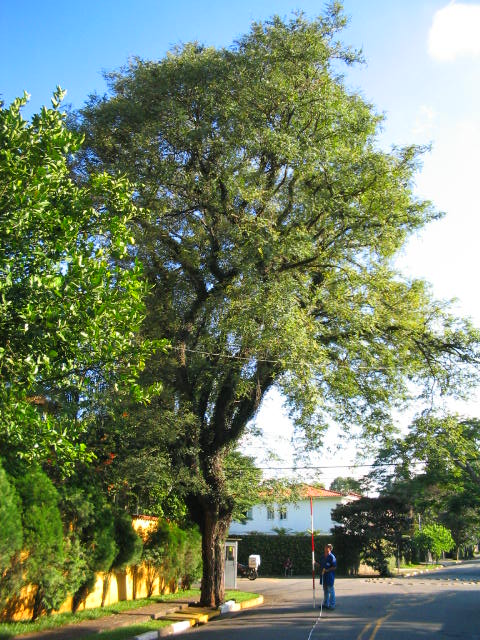crown: (68, 5, 475, 451)
stem: (185, 498, 246, 607)
stick: (307, 497, 319, 608)
tree: (66, 3, 476, 609)
